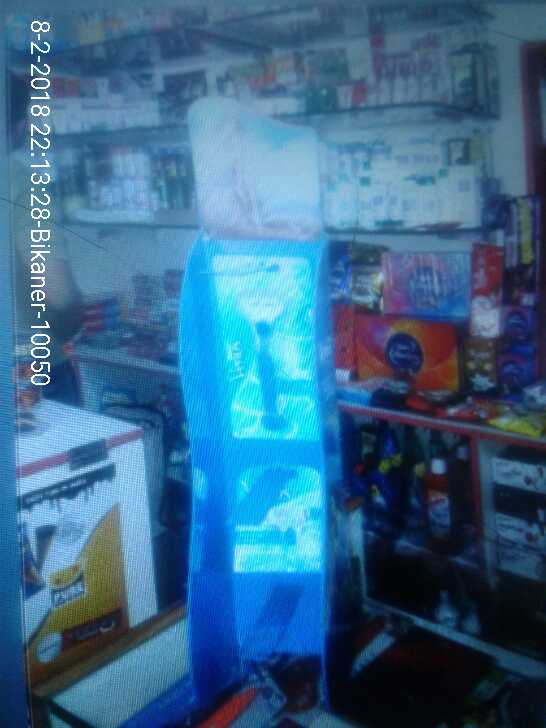venus: (213, 251, 321, 439), (233, 456, 327, 577)
